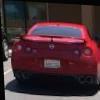License_Plate: (43, 59, 62, 68)
